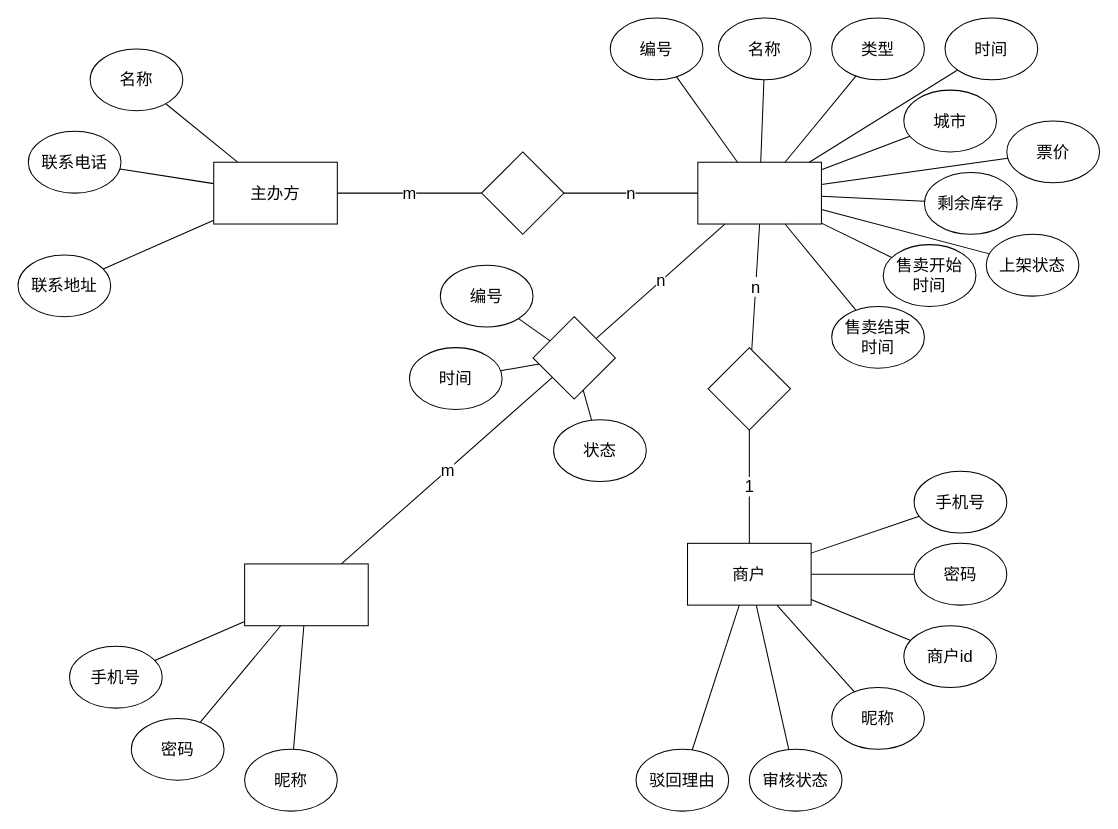
The diagram is 1118 pixels wide and 829 high, and some of its shapes have lost their labels. Here are the shapes that lost their labels. From the top down, the box of each, then its label:
(480, 151, 564, 234): 承办
(697, 161, 821, 224): 票务
(532, 316, 615, 399): 订单
(707, 347, 791, 430): 创建
(244, 563, 368, 626): 普通用户
